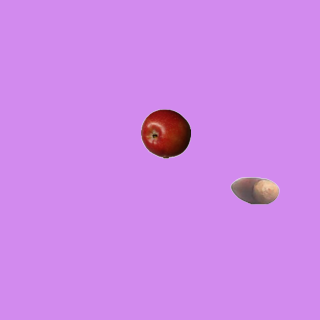Apple Braeburn: (140, 108, 190, 158)
Hazelnut: (229, 165, 279, 215)
